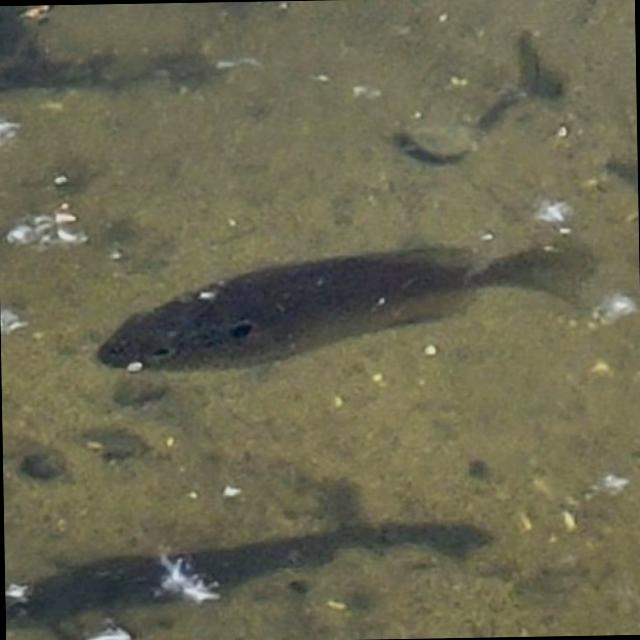Gunes Levregi: (90, 232, 602, 381)
